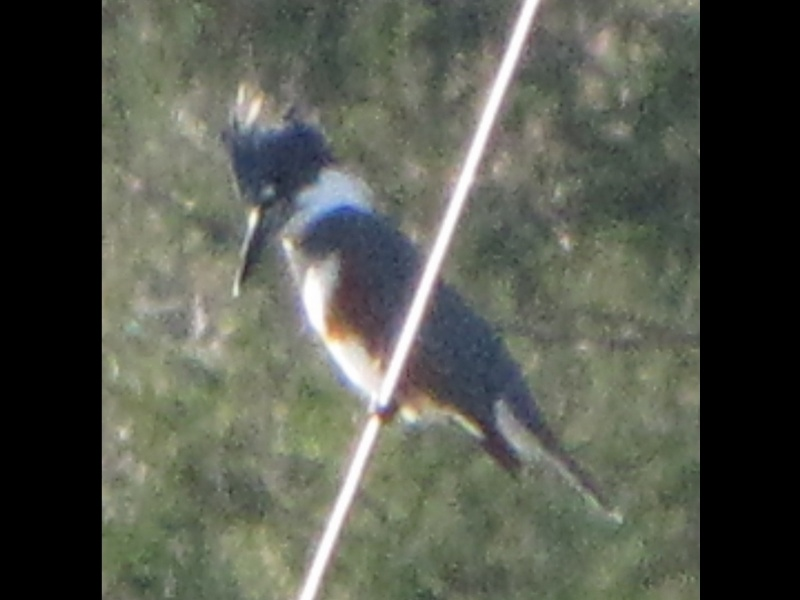kingfisher: (219, 84, 628, 527)
